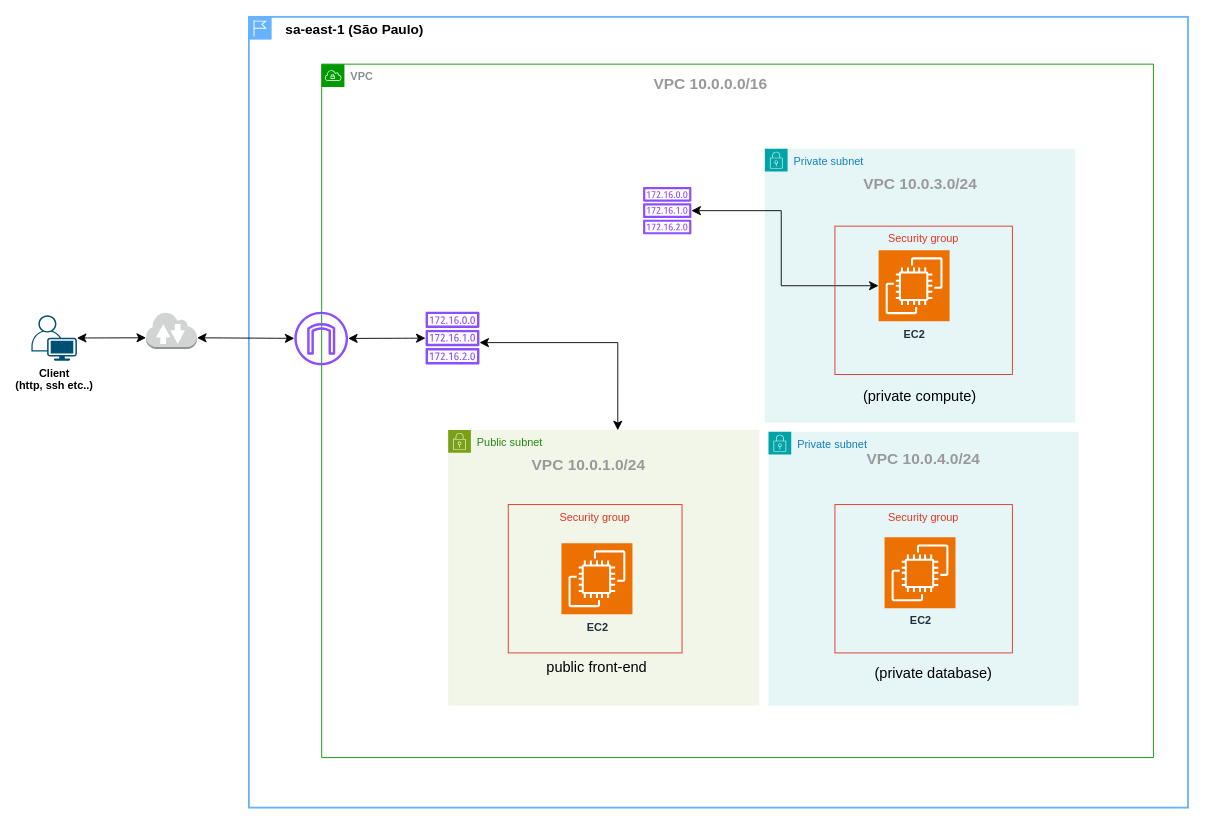
Image size: 1205x824. Some labels were removed from this diagram. The box of each missing label's shape, as (x1, y1, x2, y2) in pixels:
Internet (Inbound Outbound): (145, 311, 197, 349)
Internet Gateway (igw): (294, 311, 348, 365)
Route Table A: (425, 311, 479, 364)
Route Table B: (642, 187, 691, 234)
